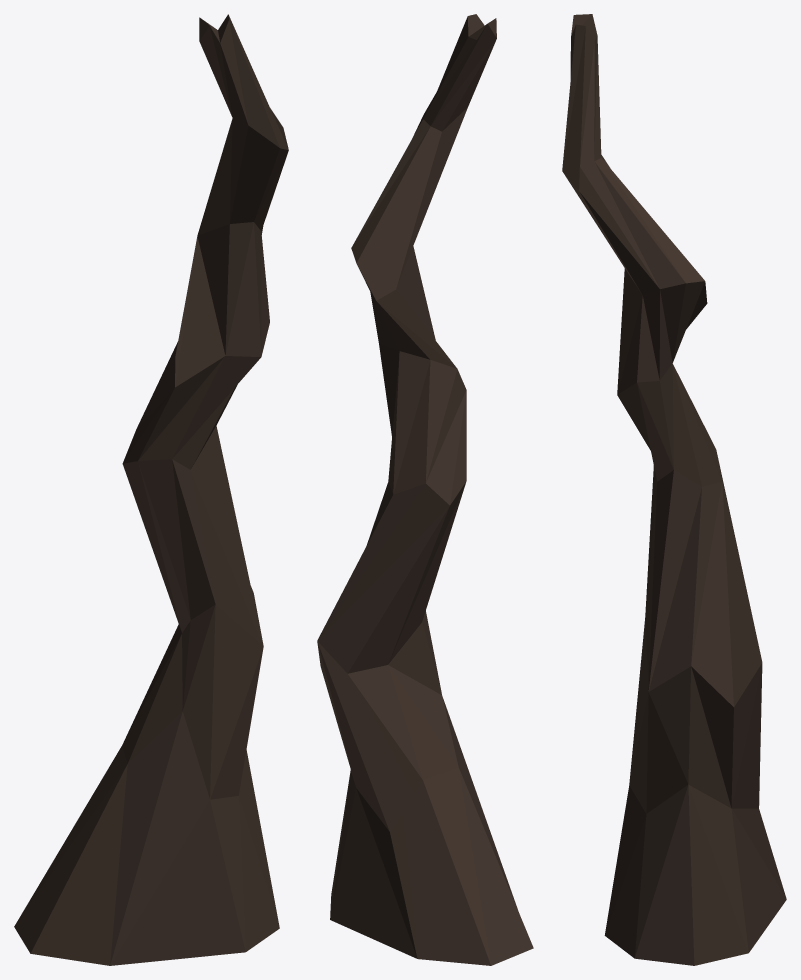
The model's file is Tree Witchered_8.fbx.
The picture shows the model from 3 angles, left to right: view 1: azimuth 30°, elevation 25°; view 2: azimuth 150°, elevation 25°; view 3: azimuth 270°, elevation 25°; orthographic projection. The views are drawn at different scales.
Parts seen in each view (by area): view 1: Tree Witchered_8; view 2: Tree Witchered_8; view 3: Tree Witchered_8.
Boxes of the visible parts, x1,y1,x2,y2 form: Tree Witchered_8: (14,14,288,965); Tree Witchered_8: (317,14,533,965); Tree Witchered_8: (562,14,786,965).
Bounding box in the file's own units: 0.8793 × 3.5 × 0.7938.
